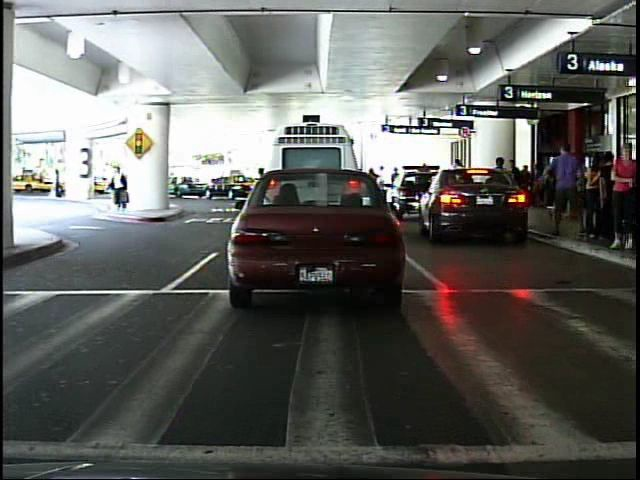person: (607, 140, 638, 255), (103, 158, 136, 213), (54, 164, 69, 203)
